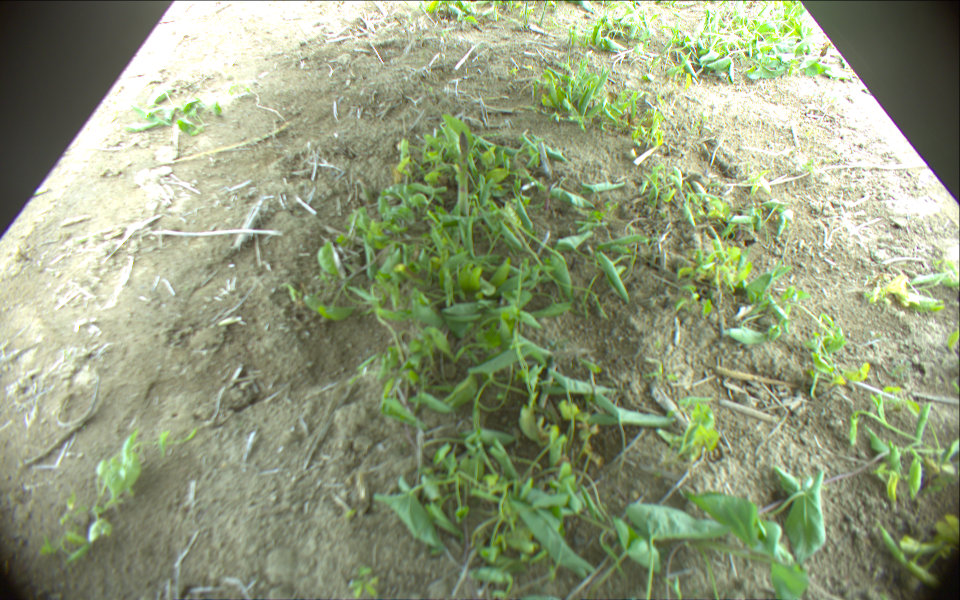aspa: (147, 118, 294, 167), (458, 129, 470, 245), (539, 1, 548, 27), (523, 1, 528, 26)
